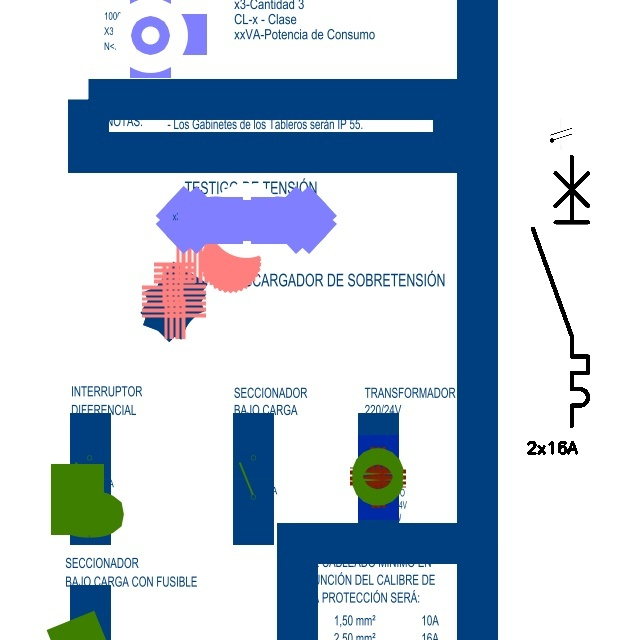interruptor_termomagnetico: (526, 150, 595, 433)
